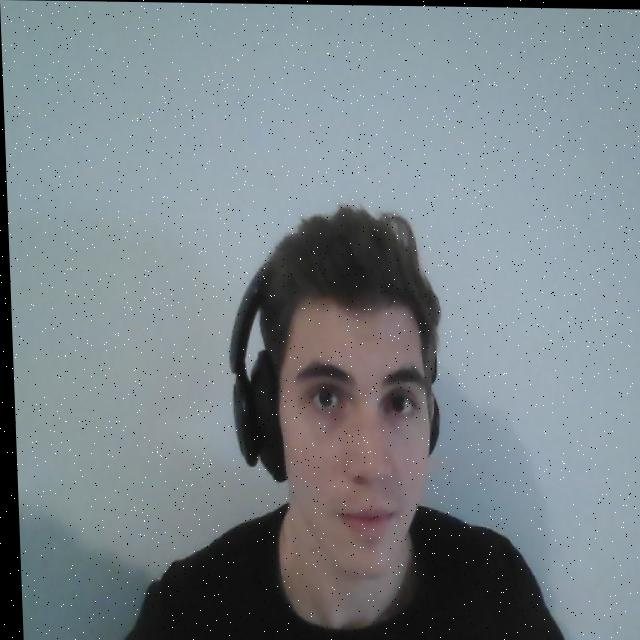opened_eye: (307, 380, 348, 415), (381, 388, 418, 421)
